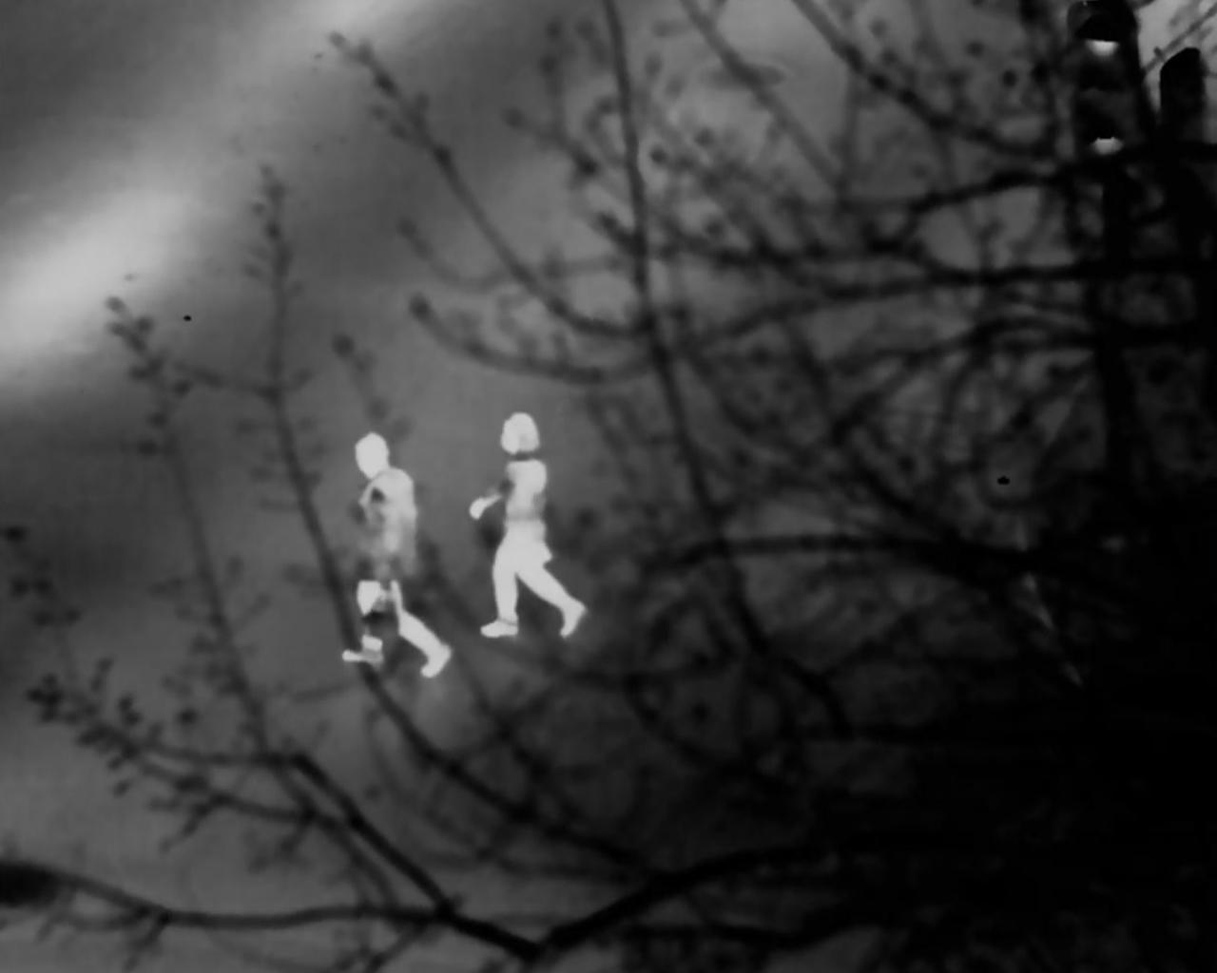person: (467, 413, 585, 642), (346, 426, 449, 677)
